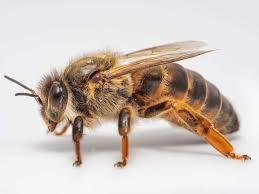Queen-Bee: (6, 41, 255, 175)
